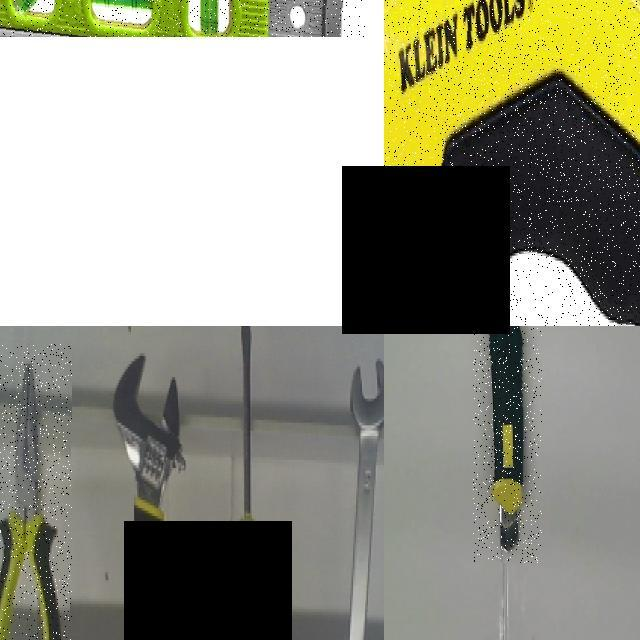estilete: (490, 328, 524, 550)
